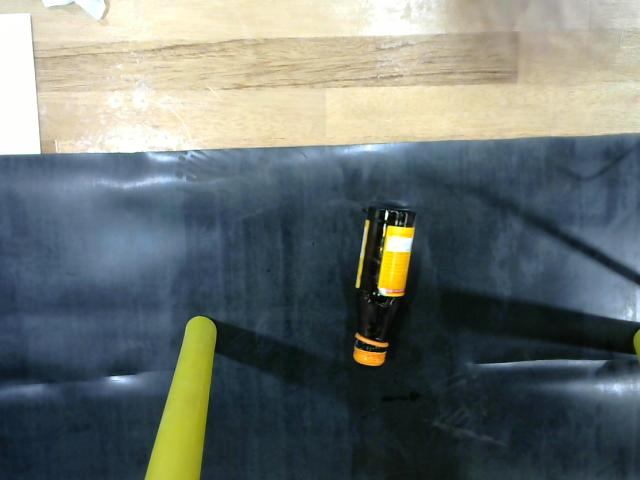glass: (343, 200, 419, 378)
